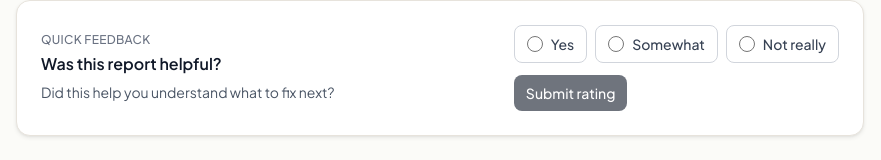
Test: ReportRating › lets users answer whether the report helped them understand what to fix
This screenshot has width=881, height=160.
expect the heading "Was this report helpful?" is shown: met, box [41, 53, 222, 74]
expect the text "Did this help you understand what to fix next?" is shown: met, box [41, 80, 334, 104]
Click the radio button labelled "Yes". click: (535, 44)
box: [527, 36, 543, 52]
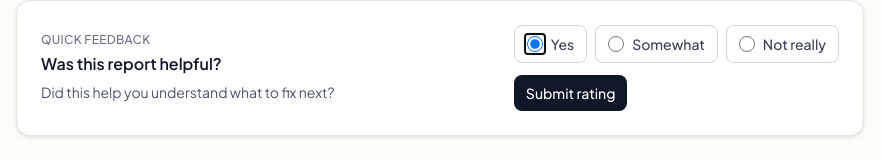
Click the button "Submit rating". click: (571, 93)
box: [514, 75, 627, 111]
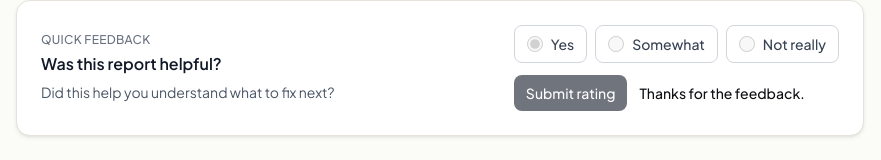
expect the text "Thanks for the feedback." is shown: met, box [640, 83, 805, 103]
